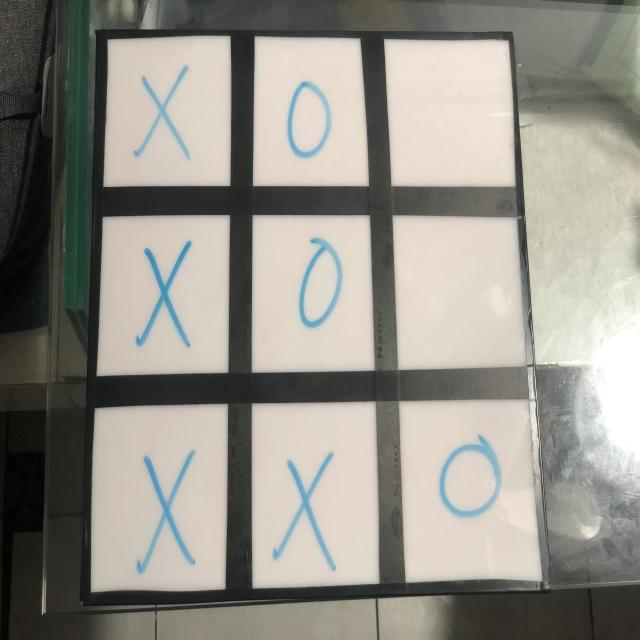null: (384, 34, 517, 196), (394, 214, 530, 372)
o: (288, 233, 348, 340), (435, 439, 503, 525), (280, 77, 340, 170)
table: (64, 19, 552, 603)
x: (273, 450, 338, 574), (138, 439, 197, 573), (137, 234, 195, 352), (135, 61, 195, 165)
